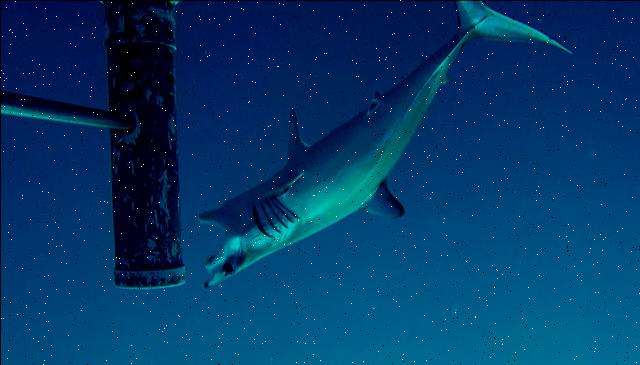Mulut: (183, 193, 249, 273)
Sirip Dada: (274, 94, 314, 166)
Sirip Ekor: (438, 0, 582, 66)
Sirip Perut: (352, 74, 390, 124)
Sirip Punggung: (346, 170, 416, 226)
